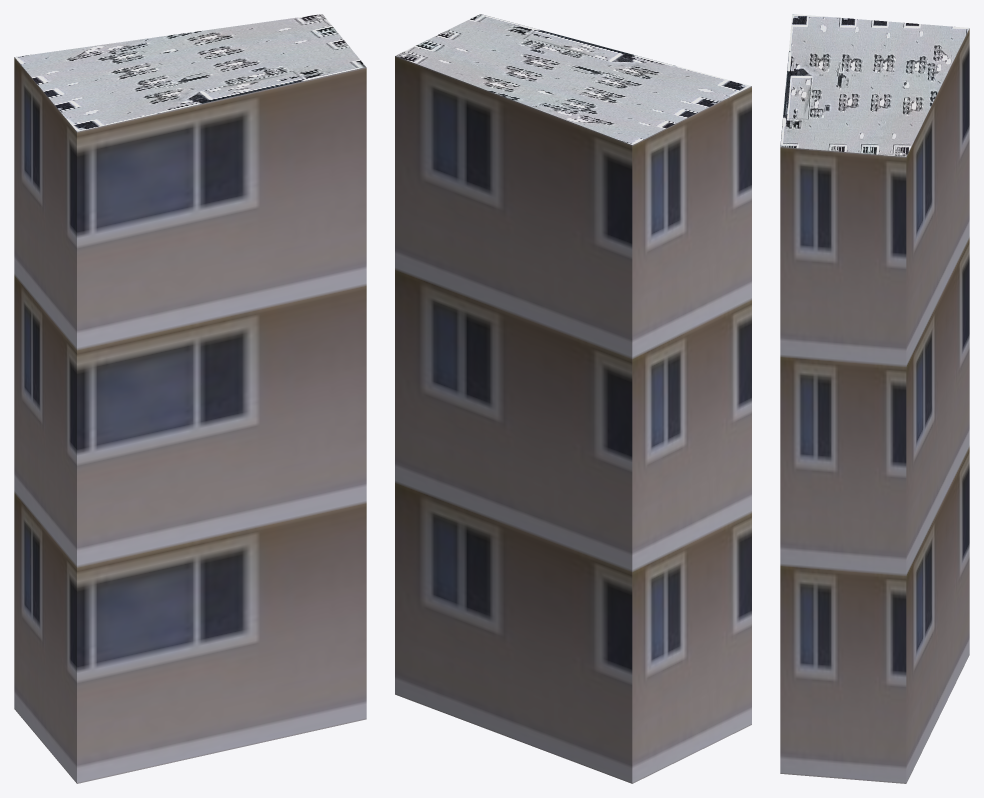
File: ResTex__387.fbx
3 renders of one model, left to right at view 1: azimuth 30°, elevation 25°; view 2: azimuth 150°, elevation 25°; view 3: azimuth 270°, elevation 25°, orthographic. The views are drawn at different scales.
Visible parts, largest first — view 1: CityEngineMaterial_21_m, CityEngineMaterial_m; view 2: CityEngineMaterial_21_m, CityEngineMaterial_m; view 3: CityEngineMaterial_21_m, CityEngineMaterial_m.
Part boxes in pixels (bbox=[...]): CityEngineMaterial_21_m: bbox=[14, 57, 366, 783]; CityEngineMaterial_m: bbox=[15, 14, 365, 131]; CityEngineMaterial_21_m: bbox=[395, 56, 751, 783]; CityEngineMaterial_m: bbox=[395, 14, 751, 144]; CityEngineMaterial_21_m: bbox=[780, 28, 969, 783]; CityEngineMaterial_m: bbox=[780, 14, 969, 156].
Size of the model in its own units: 4.4 by 9 by 2.46.
2 materials, 2 textured.
